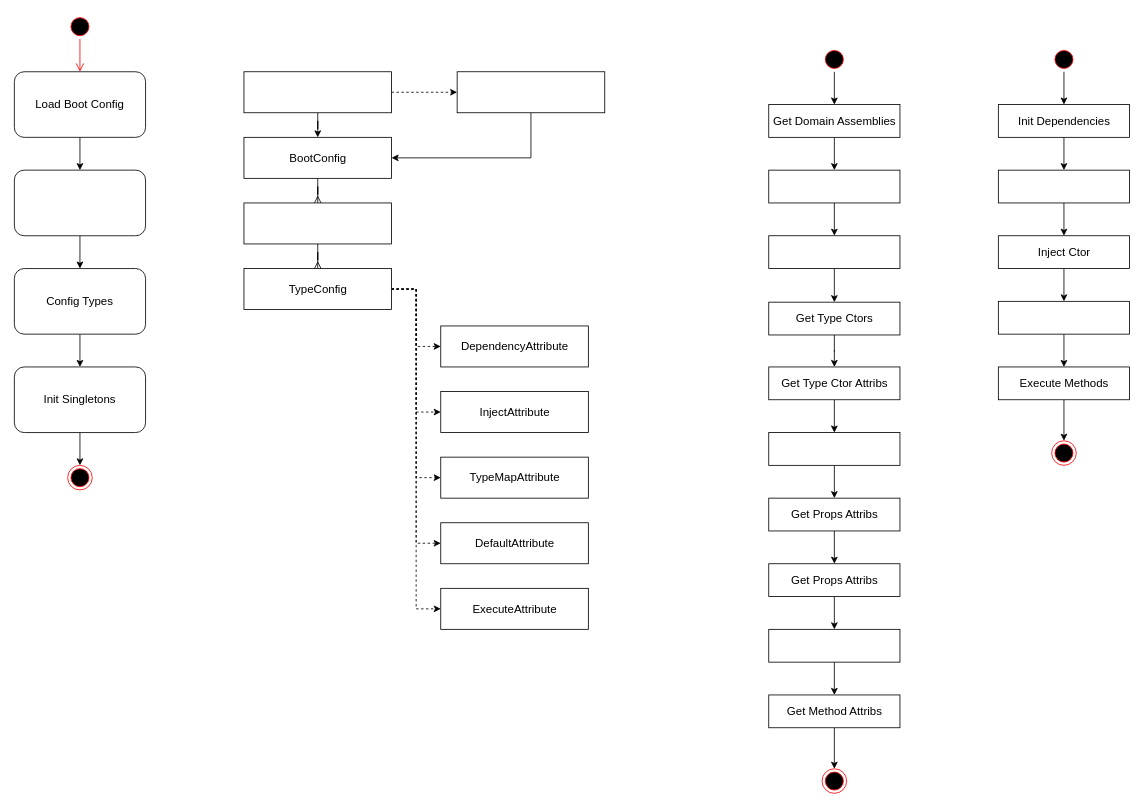
This 1144x808 diagram has some shape labels left out. The shapes that lost their labels are listed below. From the top down, each one's box as (x1, y1, x2, y2) in pixels, then its label:
(243, 71, 392, 113): Configurator
(456, 71, 605, 113): Maestro
(14, 169, 146, 236): Config Assemblies
(768, 169, 900, 203): Get Assembly Types
(998, 169, 1130, 203): Init Type
(243, 202, 392, 244): AssemblyConfig
(768, 235, 900, 269): Get Type Attribs
(998, 301, 1130, 334): Inject Props
(768, 432, 900, 465): Get Type Props
(768, 629, 900, 662): Get Methods
